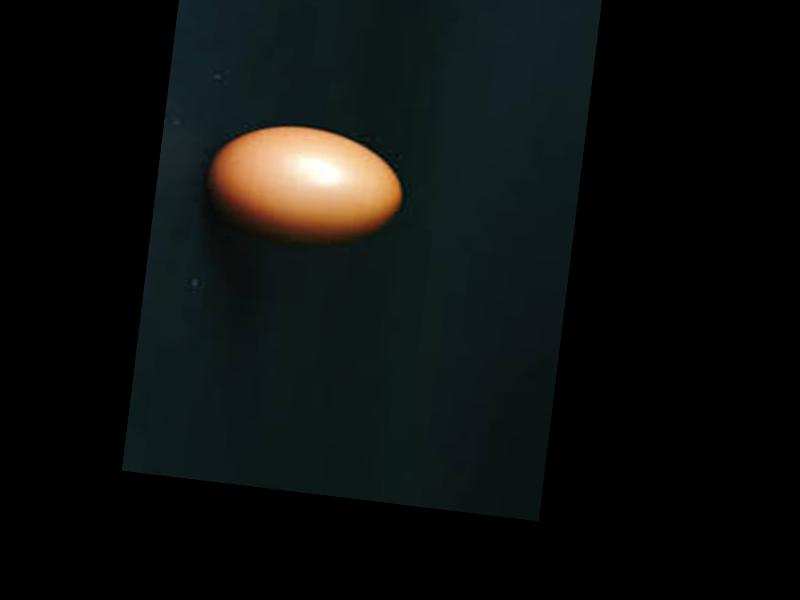Eggs: (201, 118, 408, 253)
